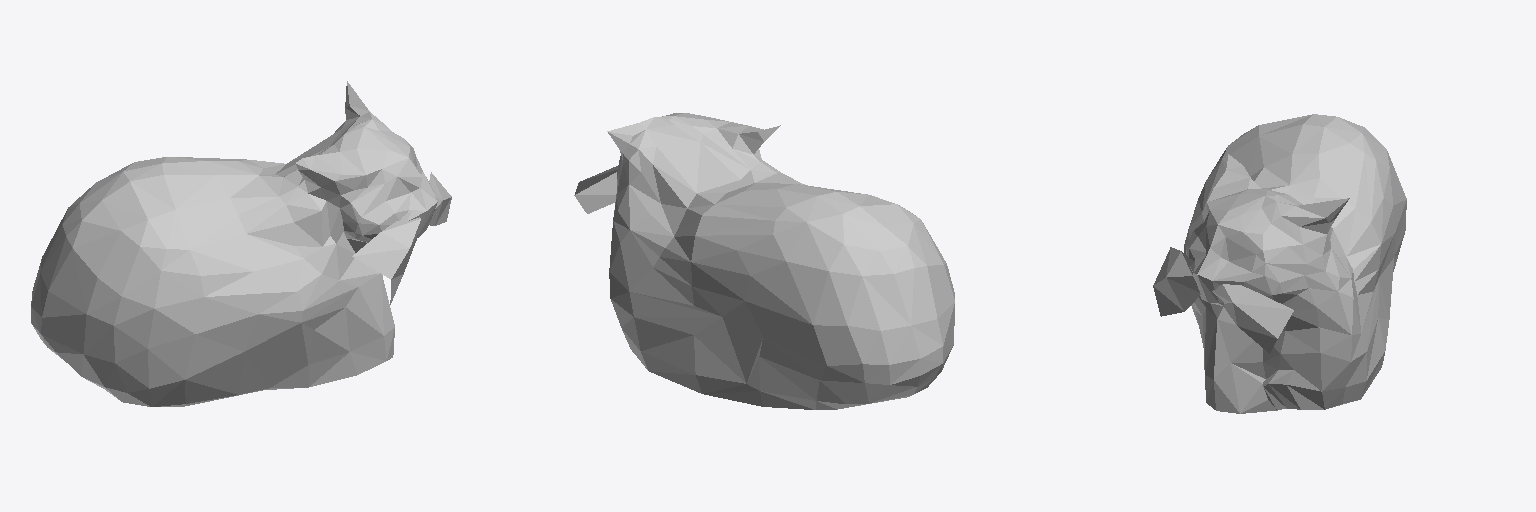
File: kitti.obj
The picture shows the model from 3 angles: view 1: azimuth 30°, elevation 25°; view 2: azimuth 150°, elevation 25°; view 3: azimuth 270°, elevation 25°; orthographic projection.
Visible parts, largest first — view 1: jct8iebse099; view 2: jct8iebse099; view 3: jct8iebse099.
Part boxes in pixels (left/top/right/bottom): jct8iebse099: left=31, top=81, right=451, bottom=406; jct8iebse099: left=574, top=113, right=954, bottom=409; jct8iebse099: left=1153, top=114, right=1406, bottom=413.
Size of the model in its own units: 33.23 by 19.45 by 18.75.